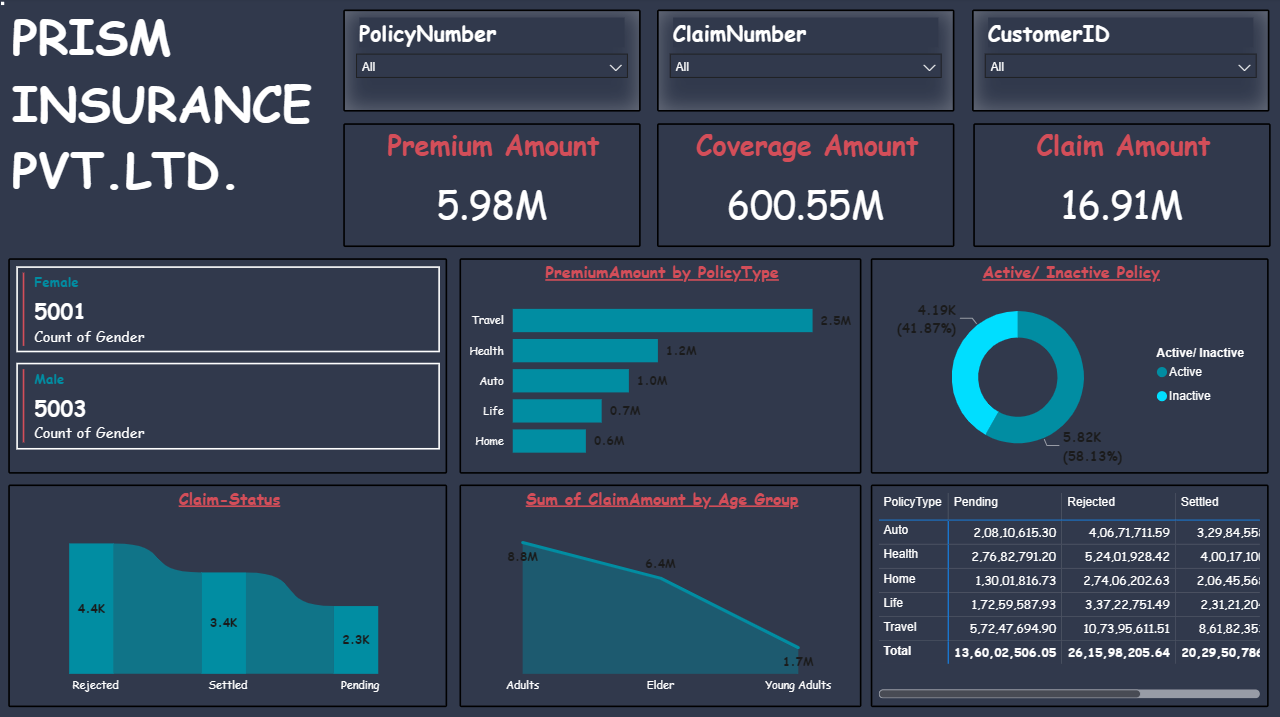

The page's visual inventory and layout, read from the dashboard file:
{"tool":"powerbi","page":{"name":"Page 1","canvas":[1280,720],"ordinal":0},"visuals":[{"type":"slicer","fields":{"Values":["InsuranceData.PolicyNumber"]},"box":[344.3,12.9,295.7,101.4],"z":0},{"type":"slicer","fields":{"Values":["InsuranceData.ClaimNumber"]},"box":[657.1,12.9,295.7,101.4],"z":1000},{"type":"slicer","fields":{"Values":["InsuranceData.CustomerID"]},"box":[970,12.9,295.7,101.4],"z":2000},{"type":"textbox","box":[10,0,334.3,260],"z":3000},{"type":"card","title":"Premium Amount","fields":{"Values":["Sum(InsuranceData.PremiumAmount)"]},"box":[344.3,125.7,295.7,122.9],"z":4000},{"type":"card","title":"Coverage Amount","fields":{"Values":["Sum(InsuranceData.CoverageAmount)"]},"box":[657.1,125.7,295.7,122.9],"z":5000},{"type":"card","title":"Claim Amount","fields":{"Values":["Sum(InsuranceData.ClaimAmount)"]},"box":[971.4,125.7,295.7,122.9],"z":6000},{"type":"multiRowCard","fields":{"Values":["InsuranceData.Gender","CountNonNull(InsuranceData.Gender)"]},"box":[11.4,260,437.1,214.3],"z":7000},{"type":"actionButton","box":[0,0,100,40],"z":8000},{"type":"ribbonChart","title":"Claim-Status","fields":{"Category":["InsuranceData.ClaimStatus"],"Y":["CountNonNull(InsuranceData.ClaimStatus)"]},"box":[11.4,485.7,437.1,221.4],"z":9000},{"type":"barChart","title":"PremiumAmount by PolicyType","fields":{"Category":["InsuranceData.PolicyType"],"Y":["Sum(InsuranceData.PremiumAmount)"]},"box":[460,260,400,214.3],"z":10000},{"type":"lineChart","fields":{"Category":["InsuranceData.Age Group"],"Y":["Sum(InsuranceData.ClaimAmount)"]},"box":[460,485.7,400,221.4],"z":11000},{"type":"donutChart","title":"Active/ Inactive Policy","fields":{"Y":["CountNonNull(InsuranceData.Active/ Inactive)"],"Category":["InsuranceData.Active/ Inactive"]},"box":[870,260,395.7,214.3],"z":12000},{"type":"pivotTable","fields":{"Values":["Sum(InsuranceData.CoverageAmount)"],"Rows":["InsuranceData.PolicyType"],"Columns":["InsuranceData.ClaimStatus"]},"box":[870,485.7,395.7,221.4],"z":13000}]}

Visuals, with their boxes in screenshot pixels (x1, y1, x2, y2), scaled from the page's 1280x720 canvas onto the 1280x717 screenshot:
slicer - InsuranceData.PolicyNumber: rect(344, 13, 640, 114)
slicer - InsuranceData.ClaimNumber: rect(657, 13, 953, 114)
slicer - InsuranceData.CustomerID: rect(970, 13, 1266, 114)
textbox: rect(10, 0, 344, 259)
"Premium Amount" card: rect(344, 125, 640, 248)
"Coverage Amount" card: rect(657, 125, 953, 248)
"Claim Amount" card: rect(971, 125, 1267, 248)
multiRowCard - InsuranceData.Gender x CountNonNull(InsuranceData.Gender): rect(11, 259, 448, 472)
actionButton: rect(0, 0, 100, 40)
"Claim-Status" ribbonChart: rect(11, 484, 448, 704)
"PremiumAmount by PolicyType" barChart: rect(460, 259, 860, 472)
lineChart - InsuranceData.Age Group x Sum(InsuranceData.ClaimAmount): rect(460, 484, 860, 704)
"Active/ Inactive Policy" donutChart: rect(870, 259, 1266, 472)
pivotTable - Sum(InsuranceData.CoverageAmount) x InsuranceData.PolicyType: rect(870, 484, 1266, 704)
